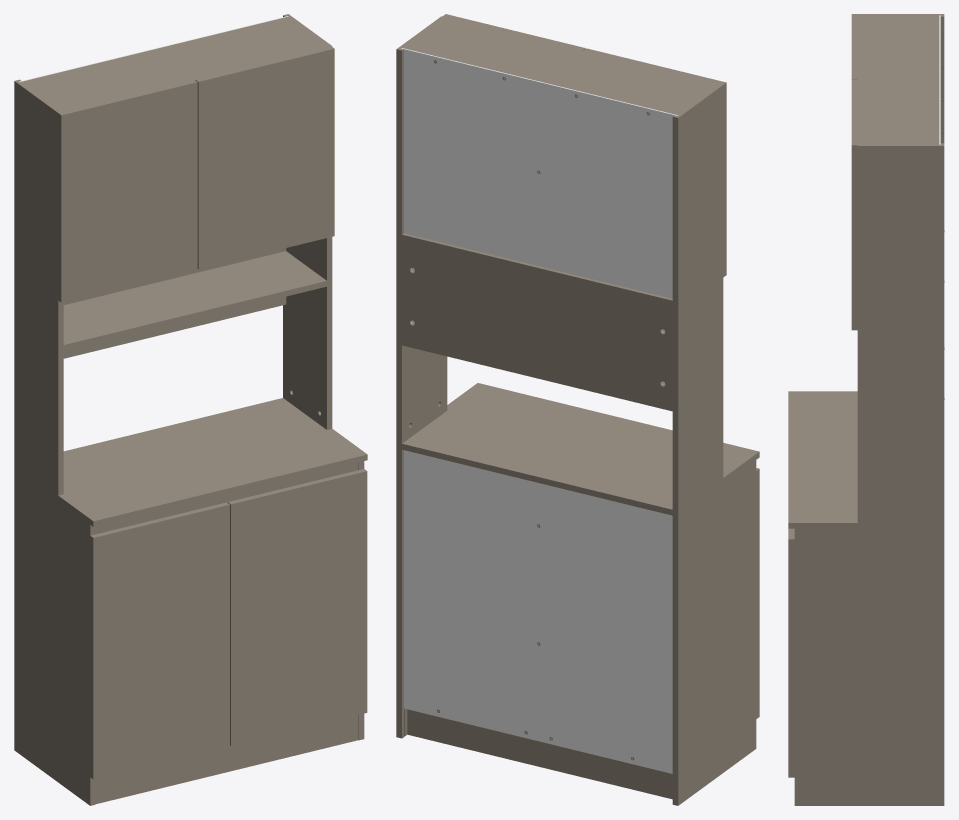
3 views of the same model, side by side, from view 1: azimuth 30°, elevation 25°; view 2: azimuth 150°, elevation 25°; view 3: azimuth 270°, elevation 25° (orthographic). The views are drawn at different scales.
Visible parts, largest first — view 1: Component_2kapak1_2, Component_2kapak1_1, KAPAKK1, KAPAKK2, alt__st1, yan_1_1, _ST_YAN2, dilame1, _ST__ST_1_1, _ST_YAN1, BAZA_1_1, arka_1 (+1 smaller); view 2: Group13, Group108, arka_1, yan_1_1, alt__st1, _ST_YAN2, _ST__ST_1_1, BAZA_1_2, _ST_YAN1, yan_1_2, _ST__ST1, KAPAKK1 (+1 smaller); view 3: yan_1_2, _ST_YAN1, _ST__ST_1_1, alt__st1, KAPAKK2, Component_2kapak1_1, _ST_YAN2, KAPAKK1.
Part boxes in pixels (<box>): Component_2kapak1_2: <box>90,502,229,779</box>; Component_2kapak1_1: <box>227,469,367,745</box>; KAPAKK1: <box>58,80,197,302</box>; KAPAKK2: <box>195,46,334,269</box>; alt__st1: <box>14,398,367,526</box>; yan_1_1: <box>14,469,95,805</box>; _ST_YAN2: <box>14,79,63,495</box>; dilame1: <box>63,251,326,350</box>; _ST__ST_1_1: <box>22,17,326,111</box>; _ST_YAN1: <box>283,14,332,429</box>; BAZA_1_1: <box>95,715,358,803</box>; arka_1: <box>63,248,286,358</box>; Group13: <box>404,450,672,773</box>; Group108: <box>401,48,677,298</box>; arka_1: <box>402,240,672,411</box>; yan_1_1: <box>672,460,756,805</box>; alt__st1: <box>396,383,759,516</box>; _ST_YAN2: <box>672,83,723,510</box>; _ST__ST_1_1: <box>405,17,717,114</box>; BAZA_1_2: <box>407,709,672,799</box>; _ST_YAN1: <box>396,16,447,443</box>; yan_1_2: <box>396,448,407,738</box>; _ST__ST1: <box>402,233,672,306</box>; KAPAKK1: <box>583,48,726,277</box>; yan_1_2: <box>794,528,944,805</box>; _ST_YAN1: <box>857,143,944,522</box>; _ST__ST_1_1: <box>857,16,939,143</box>; alt__st1: <box>788,391,944,528</box>; KAPAKK2: <box>851,80,857,330</box>; Component_2kapak1_1: <box>788,528,794,777</box>; _ST_YAN2: <box>857,14,944,143</box>; KAPAKK1: <box>851,14,857,79</box>.
Bounding box in the file's own units: 2.14 × 5 × 1.07.
